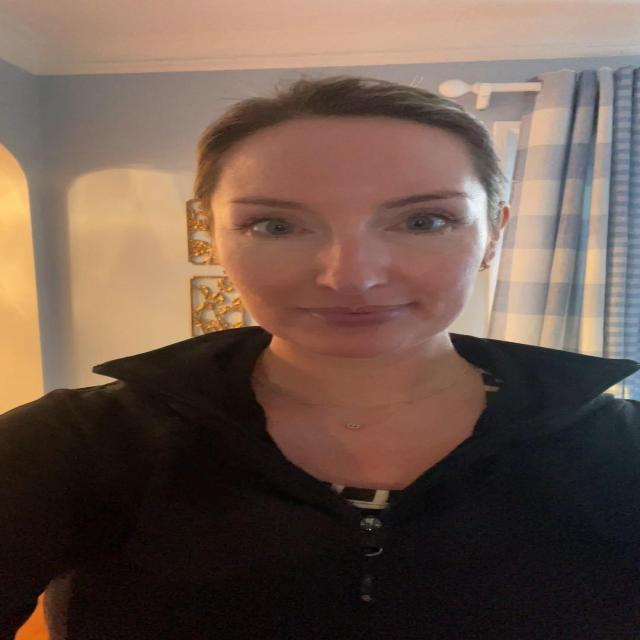no-helmet: (189, 100, 507, 385)
